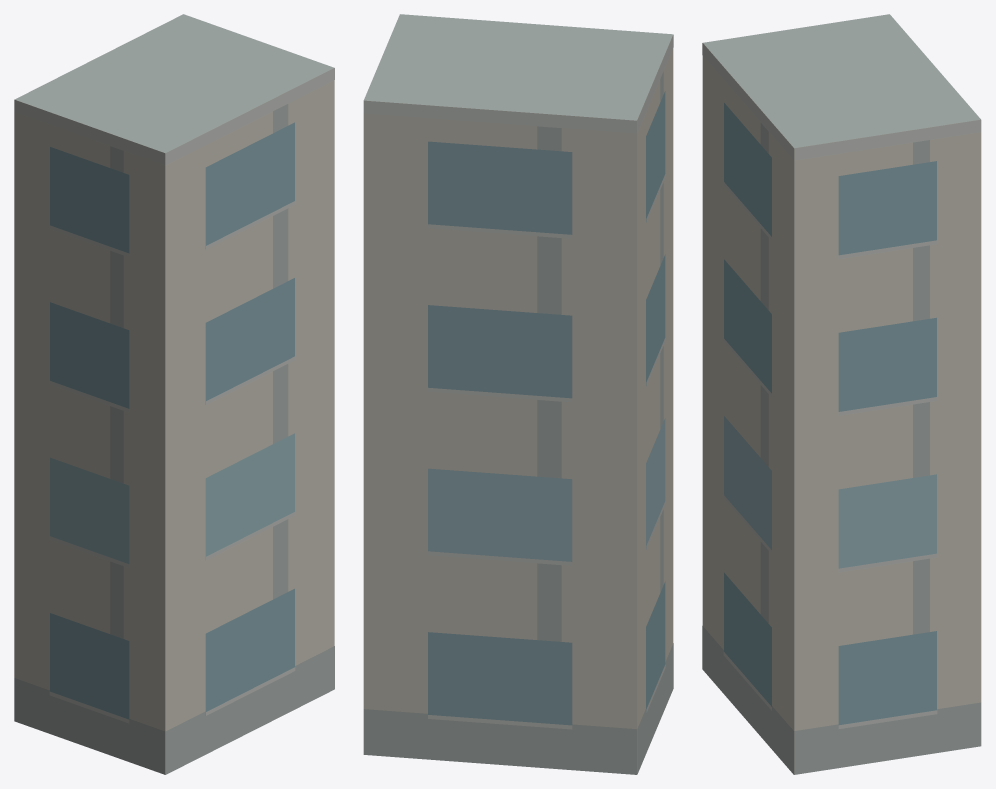
The model's file is survey-upis-32938125.glb.
3 renders of one model, left to right at view 1: azimuth 30°, elevation 25°; view 2: azimuth 150°, elevation 25°; view 3: azimuth 270°, elevation 25°, orthographic. The views are drawn at different scales.
Parts seen in each view (by area): view 1: survey-upis-32938125.tmp; view 2: survey-upis-32938125.tmp; view 3: survey-upis-32938125.tmp.
Part boxes in pixels (<box>): survey-upis-32938125.tmp: <box>14,14,334,774</box>; survey-upis-32938125.tmp: <box>363,14,673,774</box>; survey-upis-32938125.tmp: <box>702,14,981,774</box>.
Bounding box in the file's own units: 5.61 × 12.2 × 4.93.
